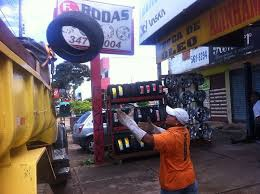tire: (46, 10, 104, 63)
